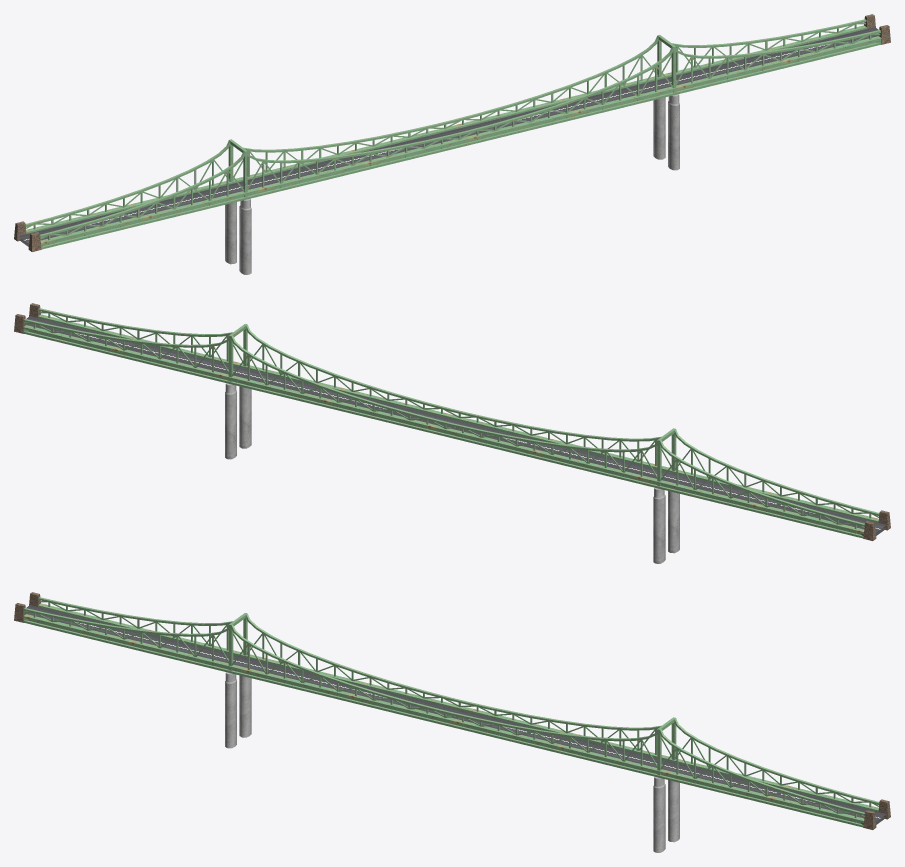
The model's file is Bridge300m.fbx.
3 views of the same model, one above another, from view 1: azimuth 30°, elevation 25°; view 2: azimuth 150°, elevation 25°; view 3: azimuth 330°, elevation 25° (orthographic).
Visible parts, largest first — view 1: Bridge300m_LOD0; view 2: Bridge300m_LOD0; view 3: Bridge300m_LOD0.
Part boxes in pixels (x1,y1,x2,y2): Bridge300m_LOD0: (14,14,890,274); Bridge300m_LOD0: (14,303,890,563); Bridge300m_LOD0: (14,592,890,852).
Size of what is drawn, in the model's own units: 12.03 by 1.62 by 0.5311.
